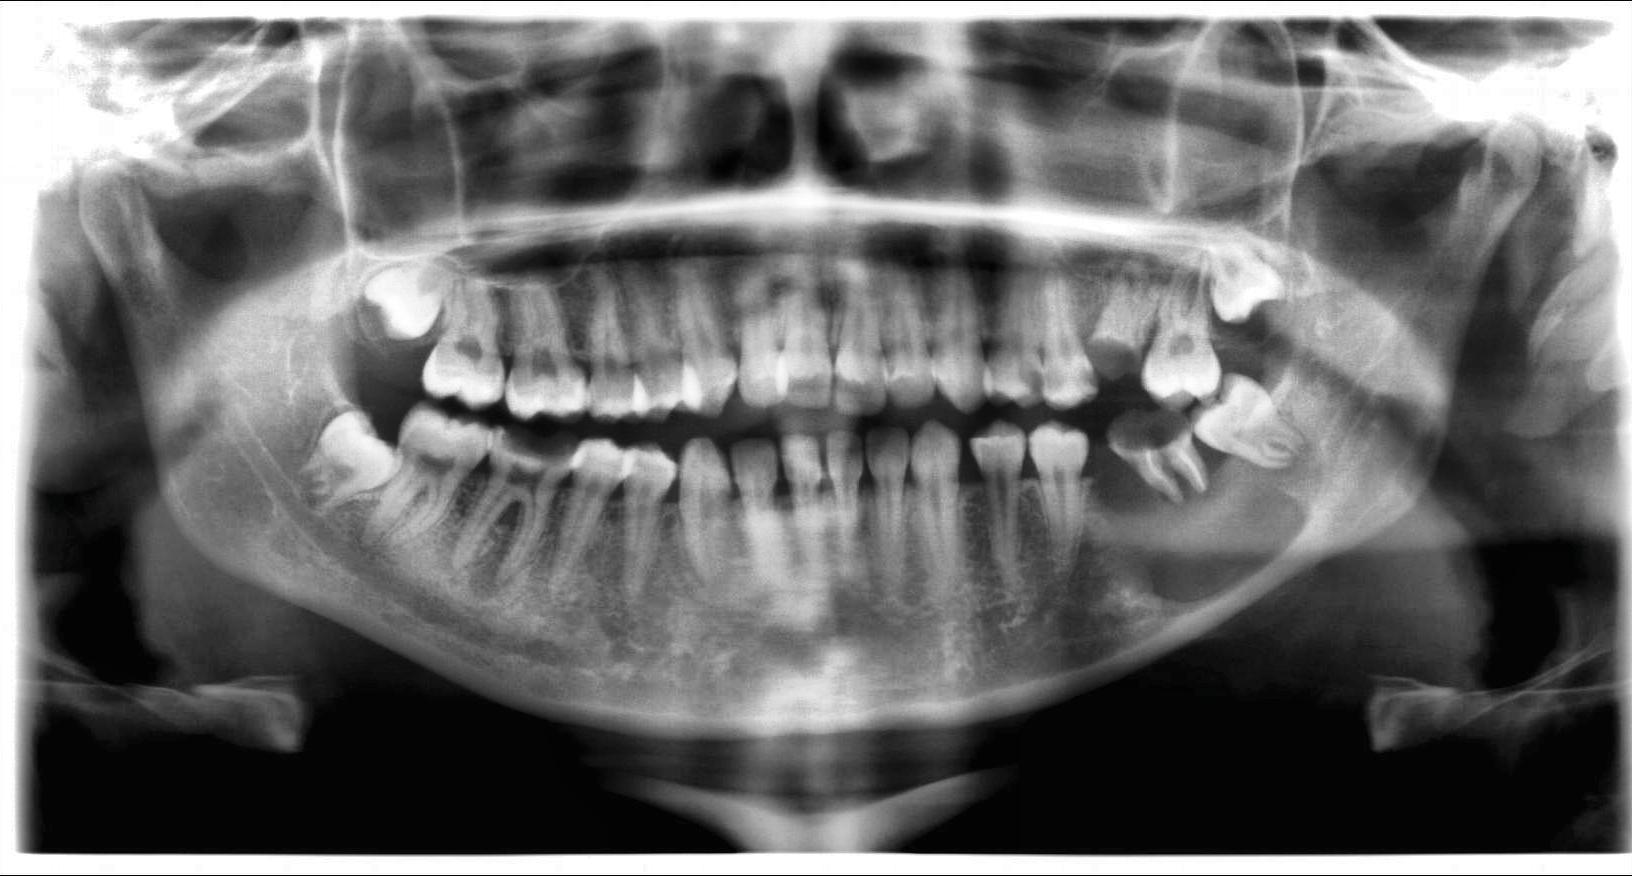radikuler: (1087, 458, 1311, 604), (464, 559, 520, 604)
